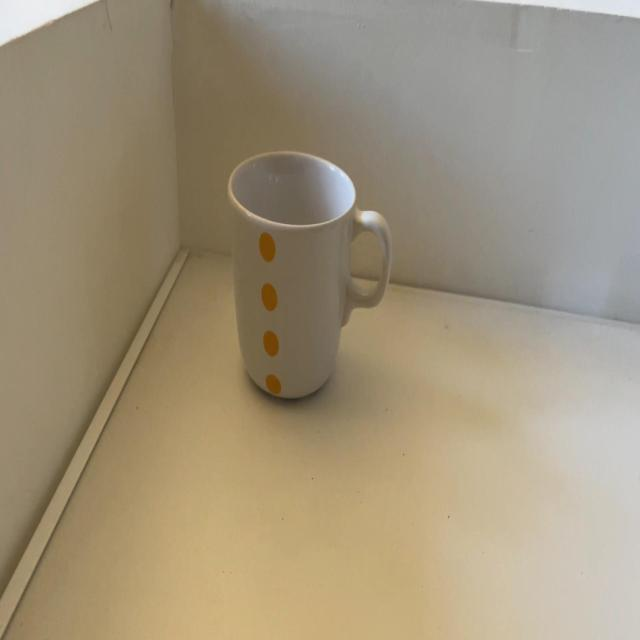cup: (227, 149, 394, 403)
